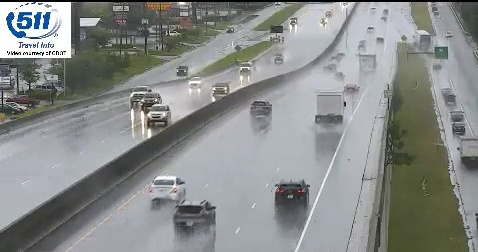car: (173, 200, 216, 228), (150, 176, 185, 201), (275, 180, 309, 205), (251, 101, 272, 117)
small-truck: (315, 90, 344, 124)
